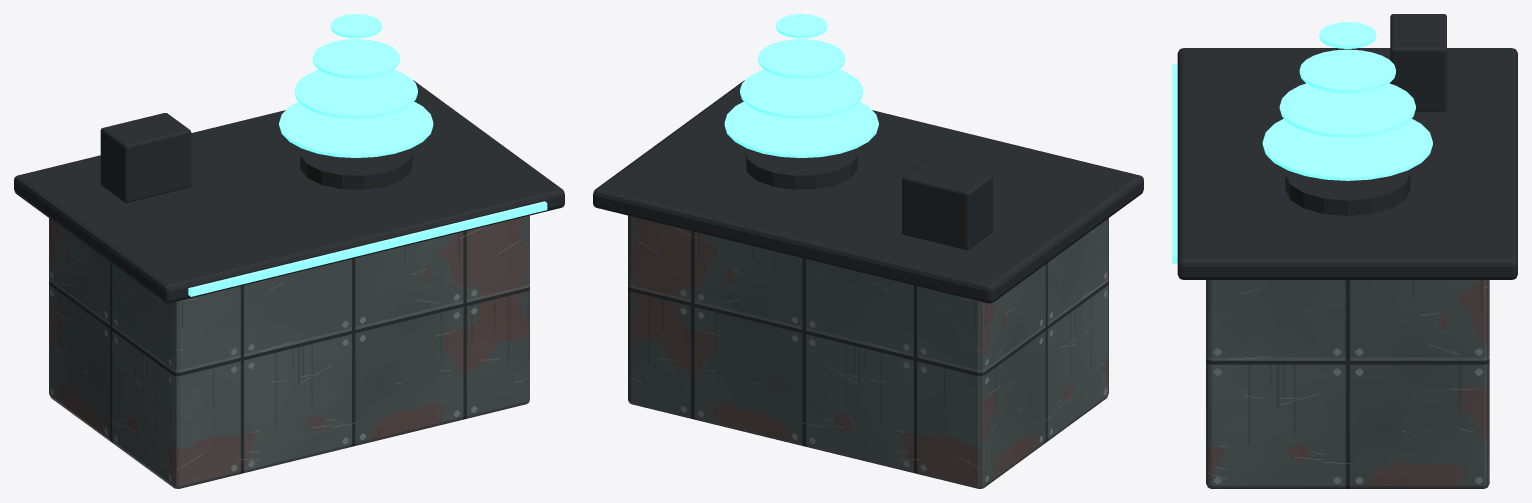
Rendered from lab_table.glb.
3 renders of one model, left to right at view 1: azimuth 30°, elevation 25°; view 2: azimuth 150°, elevation 25°; view 3: azimuth 270°, elevation 25°, orthographic. The views are drawn at different scales.
Parts seen in each view (by area): view 1: lab_table; view 2: lab_table; view 3: lab_table.
Boxes of the visible parts, box(x1,y1,x2,y2) form: lab_table: box(14, 14, 564, 488); lab_table: box(593, 14, 1143, 488); lab_table: box(1172, 14, 1517, 488).
Bounding box in the file's own units: 1.8 × 1.55 × 1.22.
3 materials, 1 textured.
